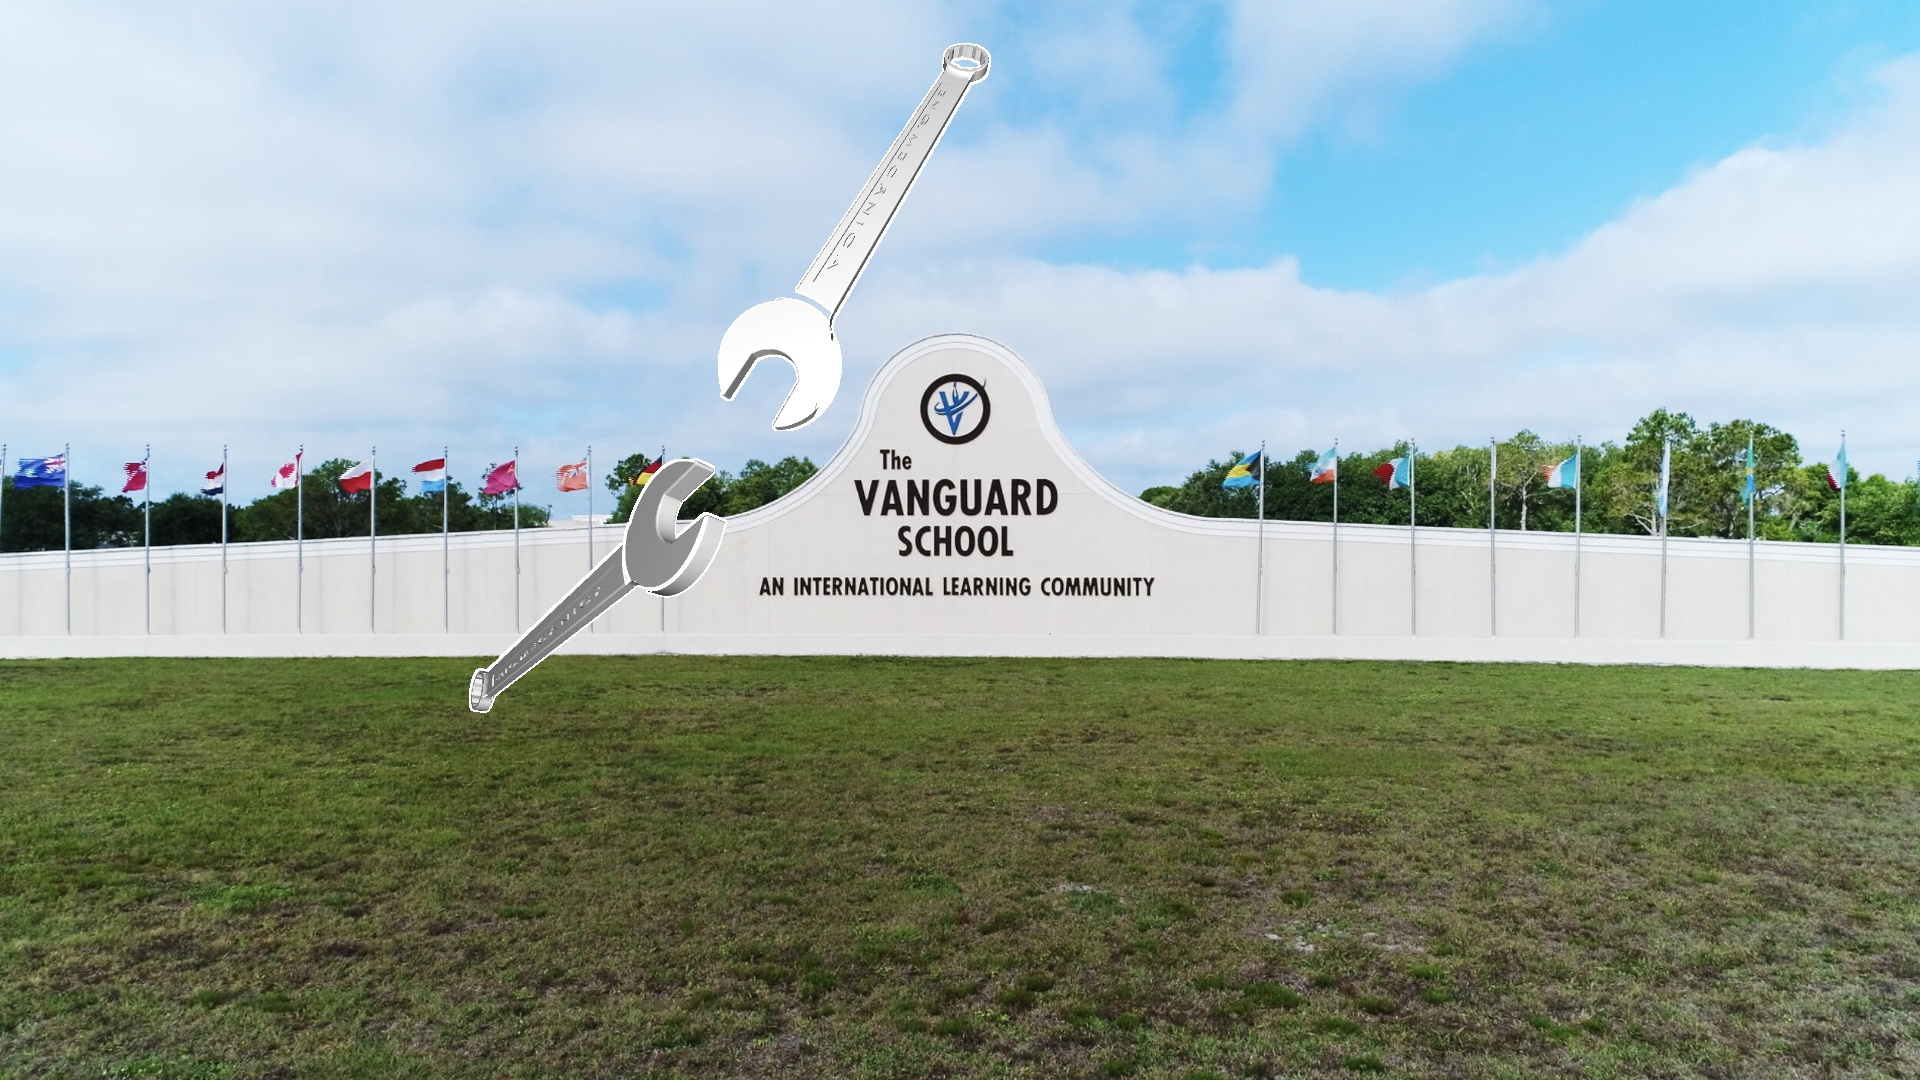Mixed Key: (717, 44, 990, 430), (469, 458, 727, 712)
